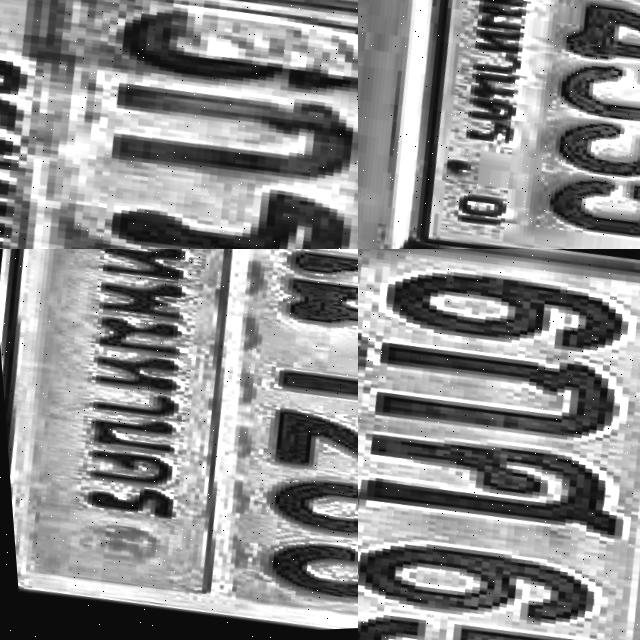license-plate: (0, 249, 358, 640), (358, 249, 640, 640), (0, 0, 358, 249), (384, 0, 640, 249)
